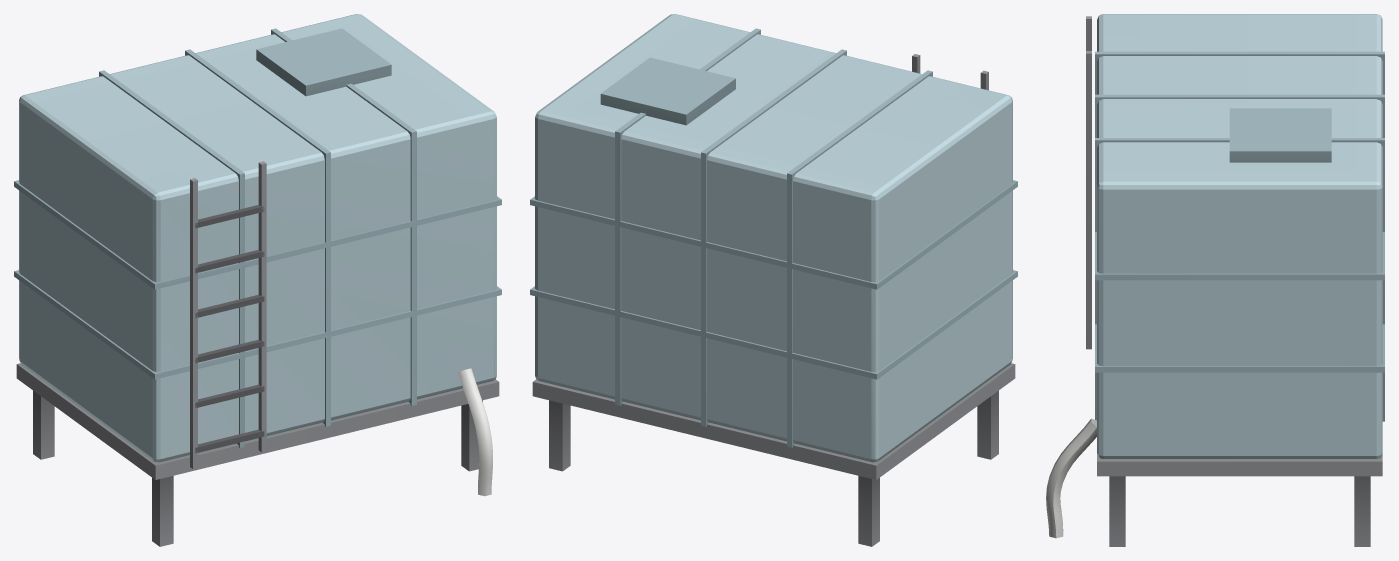
The model's file is bd_tank.glb.
3 views of the same model, side by side, from view 1: azimuth 30°, elevation 25°; view 2: azimuth 150°, elevation 25°; view 3: azimuth 270°, elevation 25° (orthographic). The views are drawn at different scales.
Visible parts, largest first — view 1: body; view 2: body; view 3: body.
Part boxes in pixels (<box>): body: <box>14,14,501,546</box>; body: <box>530,14,1017,546</box>; body: <box>1046,14,1384,546</box>.
Bounding box in the file's own units: 2.02 × 2.05 × 1.66.
